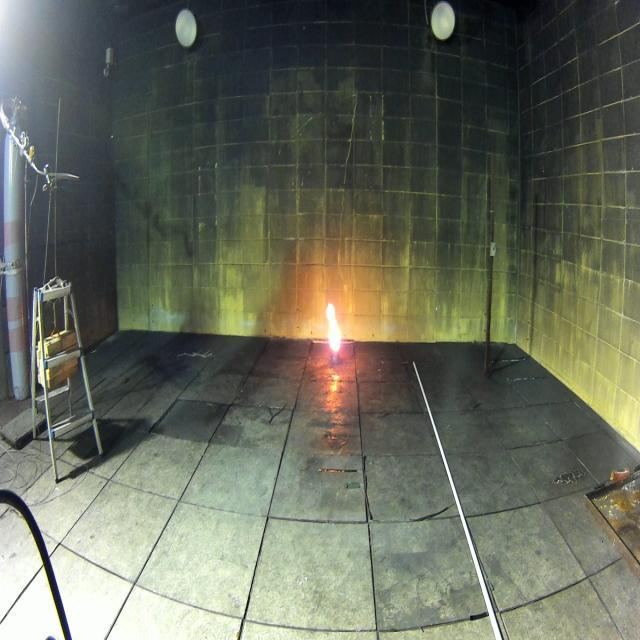Fire: (326, 303, 340, 352)
